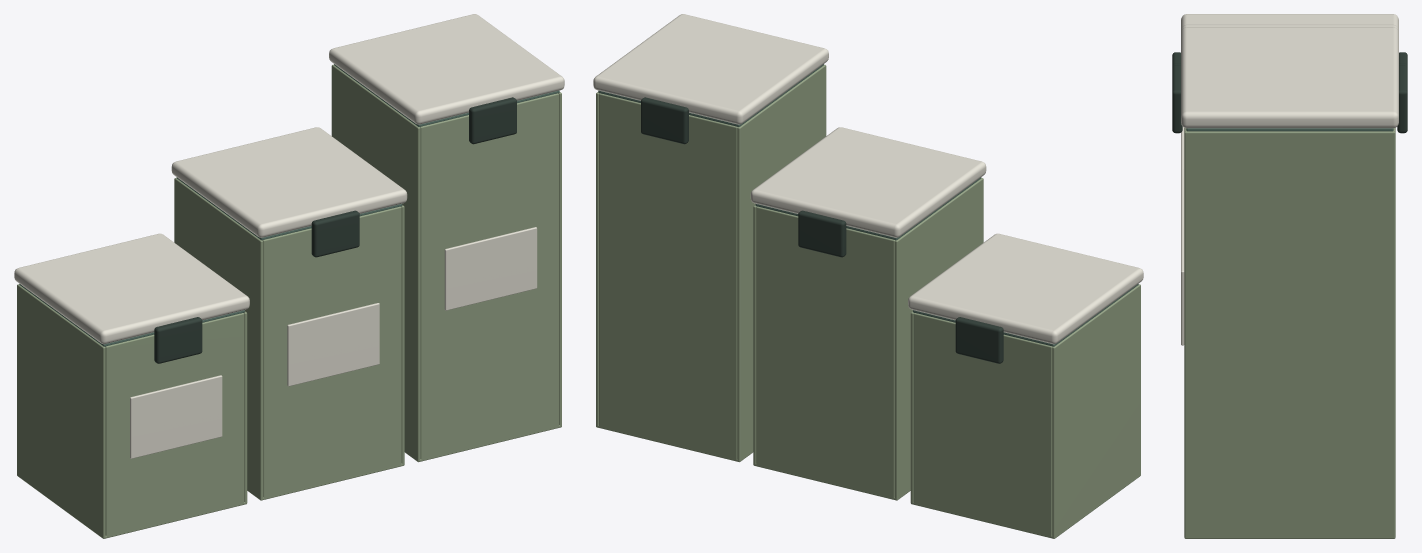
File: pantry-canisters.glb
3 views of the same model, side by side, from view 1: azimuth 30°, elevation 25°; view 2: azimuth 150°, elevation 25°; view 3: azimuth 270°, elevation 25° (orthographic). The views are drawn at different scales.
Visible parts, largest first — view 1: Container body 2 front, Container body 1 front, Container body 0 front, Container body 0 left, Lid shell.001, Lid shell, Lid shell.002, Container body 2 left, Container body 1 left, Front label.002, Front label, Front label.001 (+6 smaller); view 2: Container body 2 back, Container body 1 back, Container body 0 back, Container body 0 left, Lid shell.001, Lid shell, Lid shell.002, Container body 2 left, Container body 1 left, Lift latch.001, Lift latch.003, Lift latch.005 (+3 smaller); view 3: Container body 2 right, Lid shell.002, Lid shell, Removable seal.002, Lid shell.001, Lift latch.004, Lift latch.005, Front label.002, Container body 2 floor.
Part boxes in pixels (left/top/right/bottom): Container body 2 front: left=420, top=93, right=558, bottom=461; Container body 1 front: left=263, top=206, right=401, bottom=499; Container body 0 front: left=105, top=313, right=244, bottom=537; Container body 0 left: left=17, top=284, right=105, bottom=537; Lid shell.001: left=171, top=127, right=407, bottom=237; Lid shell: left=14, top=233, right=249, bottom=344; Lid shell.002: left=329, top=14, right=564, bottom=124; Container body 2 left: left=331, top=64, right=420, bottom=461; Container body 1 left: left=174, top=177, right=263, bottom=499; Front label.002: left=444, top=227, right=537, bottom=310; Front label: left=130, top=375, right=222, bottom=458; Front label.001: left=287, top=303, right=379, bottom=386; Container body 2 back: left=599, top=93, right=737, bottom=461; Container body 1 back: left=756, top=206, right=894, bottom=499; Container body 0 back: left=913, top=313, right=1052, bottom=537; Container body 0 left: left=1052, top=284, right=1140, bottom=538; Lid shell.001: left=750, top=127, right=986, bottom=237; Lid shell: left=908, top=233, right=1143, bottom=344; Lid shell.002: left=593, top=14, right=828, bottom=124; Container body 2 left: left=737, top=64, right=826, bottom=461; Container body 1 left: left=894, top=177, right=983, bottom=500; Lift latch.001: left=955, top=317, right=1003, bottom=363; Lift latch.003: left=798, top=210, right=846, bottom=257; Lift latch.005: left=641, top=97, right=688, bottom=144; Container body 2 right: left=1184, top=131, right=1395, bottom=536; Lid shell.002: left=1181, top=27, right=1398, bottom=128; Lid shell: left=1181, top=14, right=1398, bottom=29; Removable seal.002: left=1186, top=128, right=1393, bottom=131; Lid shell.001: left=1181, top=24, right=1398, bottom=31; Lift latch.004: left=1172, top=65, right=1182, bottom=133; Lift latch.005: left=1397, top=65, right=1407, bottom=133; Front label.002: left=1181, top=217, right=1184, bottom=345; Container body 2 floor: left=1184, top=536, right=1395, bottom=538.
Bounding box in the file's own units: 0.36 × 0.26 × 0.13.
